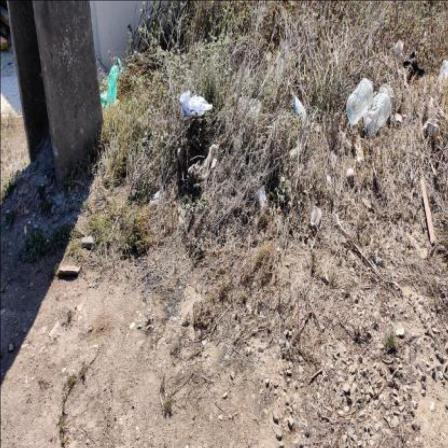Bottle: (347, 78, 375, 125), (363, 94, 391, 138)
Cup: (311, 207, 322, 232)
Plastic bag - wrapper: (101, 58, 124, 110), (188, 144, 221, 180), (180, 88, 213, 117), (379, 85, 395, 107), (438, 60, 448, 81), (396, 40, 405, 57), (358, 150, 365, 167)
Unlabeled litter: (292, 93, 311, 129), (404, 51, 426, 77), (258, 185, 268, 213), (290, 144, 301, 164)
